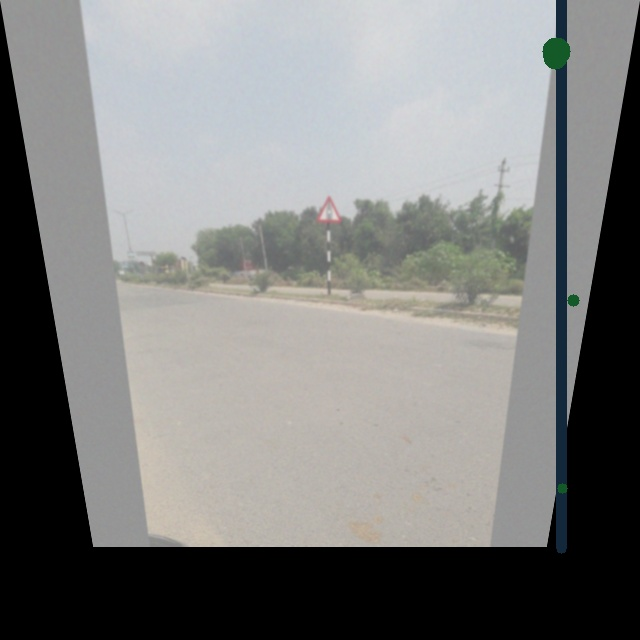Gap_in_Median: (311, 190, 348, 226)
